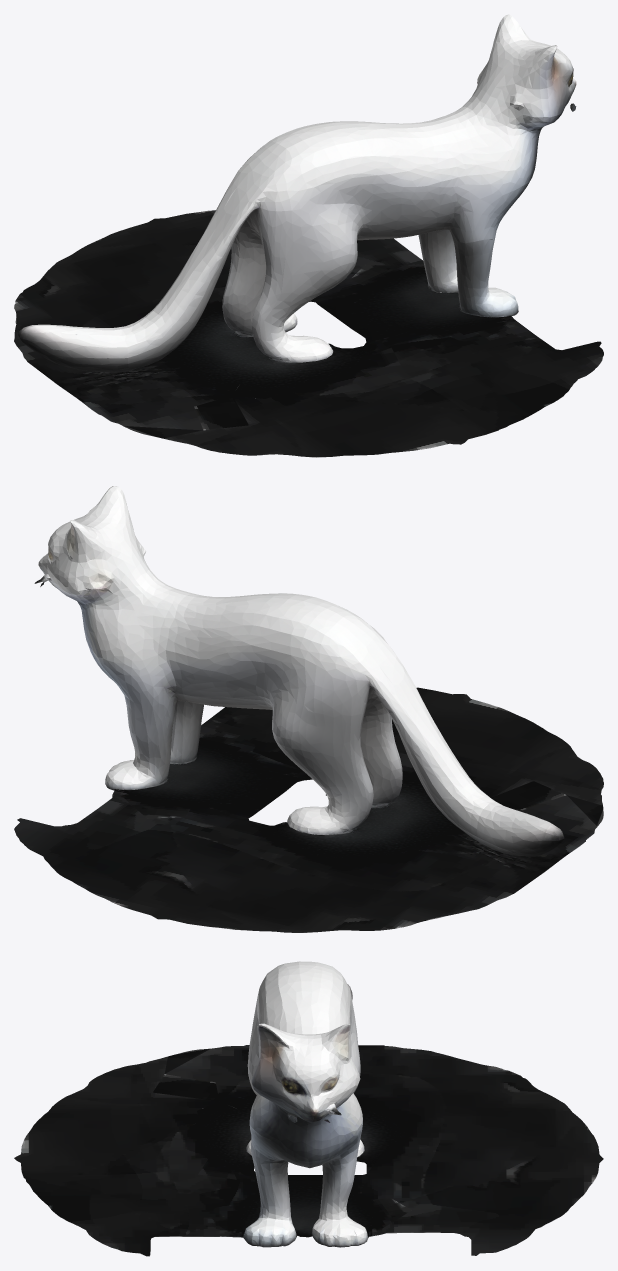
File: cat.glb
3 renders of one model, top to bottom at view 1: azimuth 30°, elevation 25°; view 2: azimuth 150°, elevation 25°; view 3: azimuth 270°, elevation 25°, orthographic. The views are drawn at different scales.
Parts seen in each view (by area): view 1: world; view 2: world; view 3: world.
Part boxes in pixels (x1,y1,x2,y2): world: (14, 14, 603, 457); world: (14, 486, 603, 932); world: (14, 961, 603, 1256).
Size of the model in its own units: 1 by 0.4462 by 0.9863.
1 material, 1 textured.
